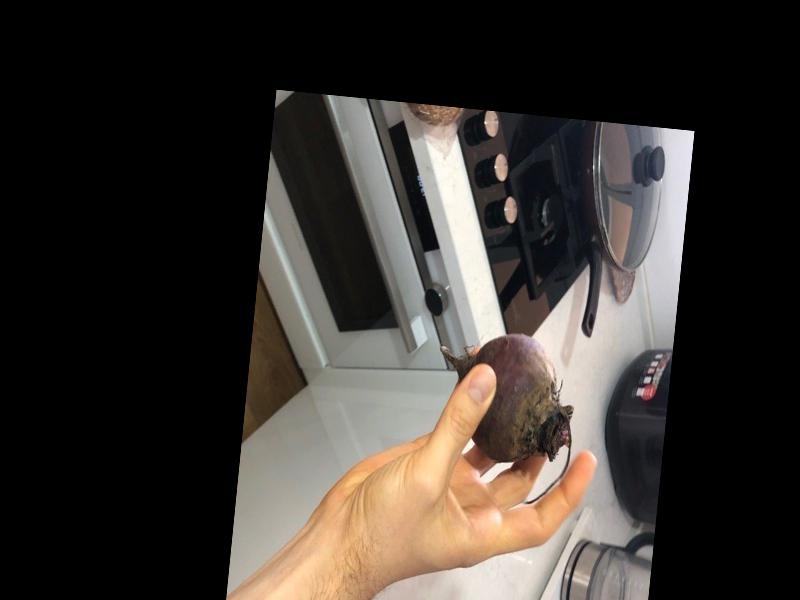Beet: (426, 327, 581, 505)
